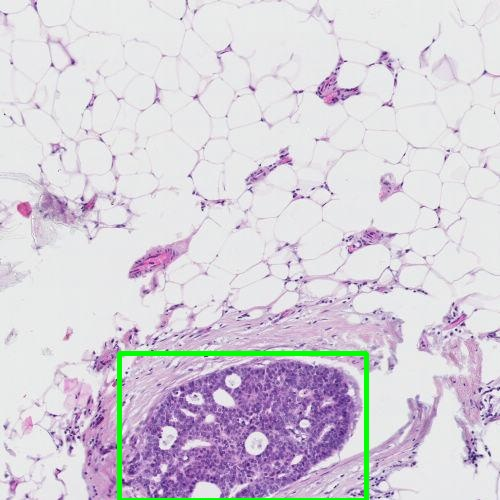DCIS: (119, 353, 366, 500)
